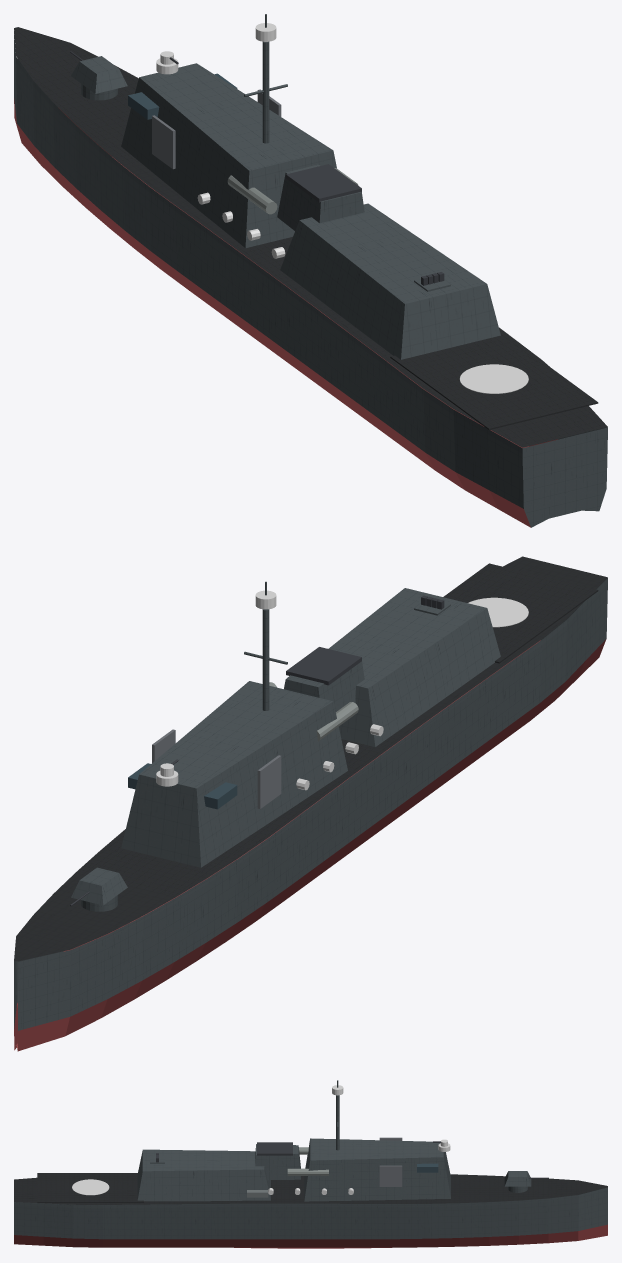
Rendered from type_056a.glb.
3 views of the same model, one above another, from view 1: azimuth 30°, elevation 25°; view 2: azimuth 150°, elevation 25°; view 3: azimuth 270°, elevation 25° (orthographic). The views are drawn at different scales.
Parts seen in each view (by area): view 1: 056a_hull; view 2: 056a_hull; view 3: 056a_hull.
Part boxes in pixels (x1,y1,x2,y2): 056a_hull: [14, 14, 607, 527]; 056a_hull: [14, 556, 607, 1051]; 056a_hull: [14, 1080, 607, 1248].
Size of the model in its own units: 11.1 by 26.81 by 89.
3 materials, 3 textured.
